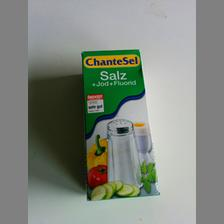Gewuerze: (80, 47, 162, 201)
